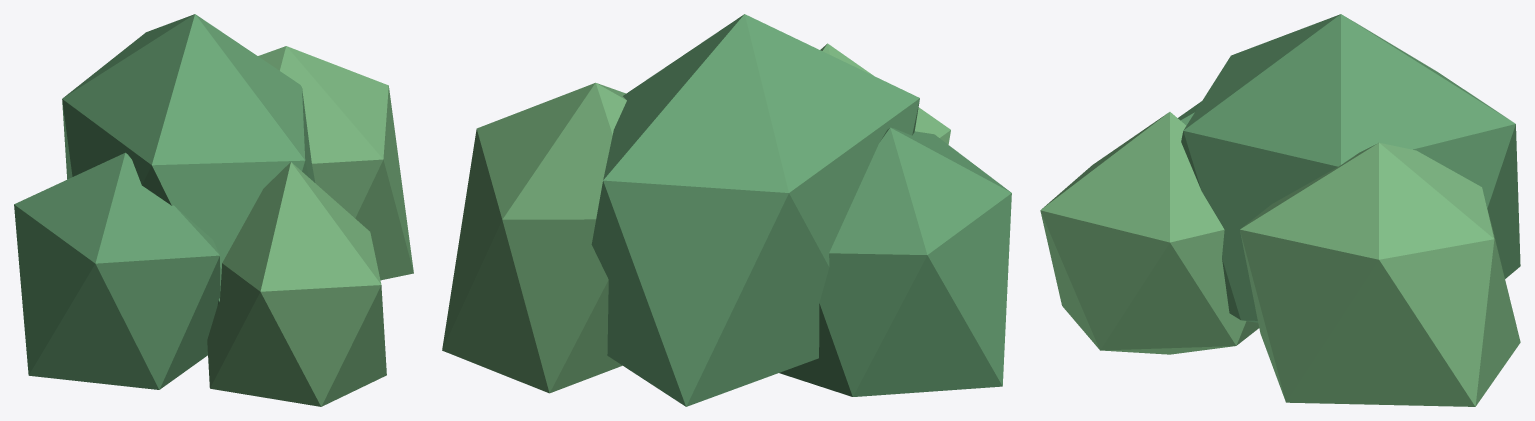
The model's file is bush.glb.
3 views of the same model, side by side, from view 1: azimuth 30°, elevation 25°; view 2: azimuth 150°, elevation 25°; view 3: azimuth 270°, elevation 25° (orthographic). The views are drawn at different scales.
Parts seen in each view (by area): view 1: Bush_2, Bush_0, Bush_3, Bush_1; view 2: Bush_0, Bush_2, Bush_1, Bush_3; view 3: Bush_1, Bush_0, Bush_3.
Boxes of the visible parts, box(x1,y1,x2,y2) form: Bush_2: box(14, 152, 220, 389); Bush_0: box(62, 14, 315, 305); Bush_3: box(207, 162, 386, 406); Bush_1: box(258, 46, 413, 280); Bush_0: box(591, 14, 919, 406); Bush_2: box(779, 127, 1011, 396); Bush_1: box(442, 82, 626, 393); Bush_3: box(820, 43, 950, 144); Bush_1: box(1240, 142, 1520, 406); Bush_0: box(1181, 14, 1520, 322); Bush_3: box(1040, 112, 1259, 354).
Bounding box in the file's own units: 1.3 × 0.9997 × 1.3.
